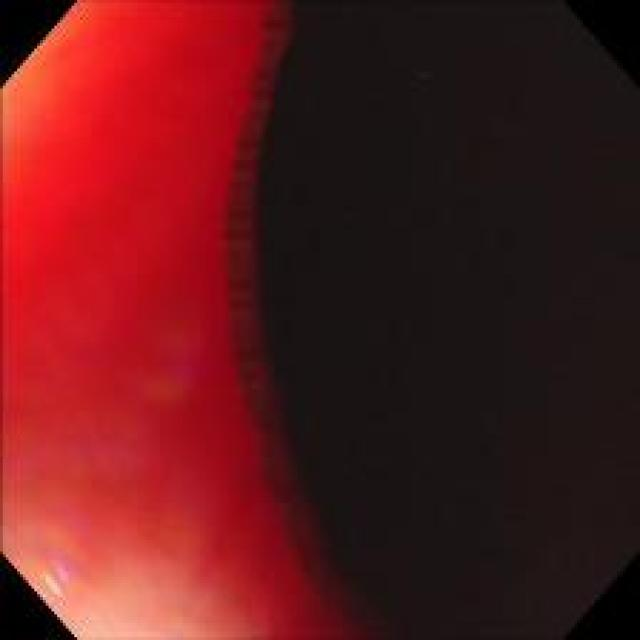color misalignment: (212, 16, 388, 626), (26, 554, 70, 596)
contrast: (241, 9, 621, 619)
